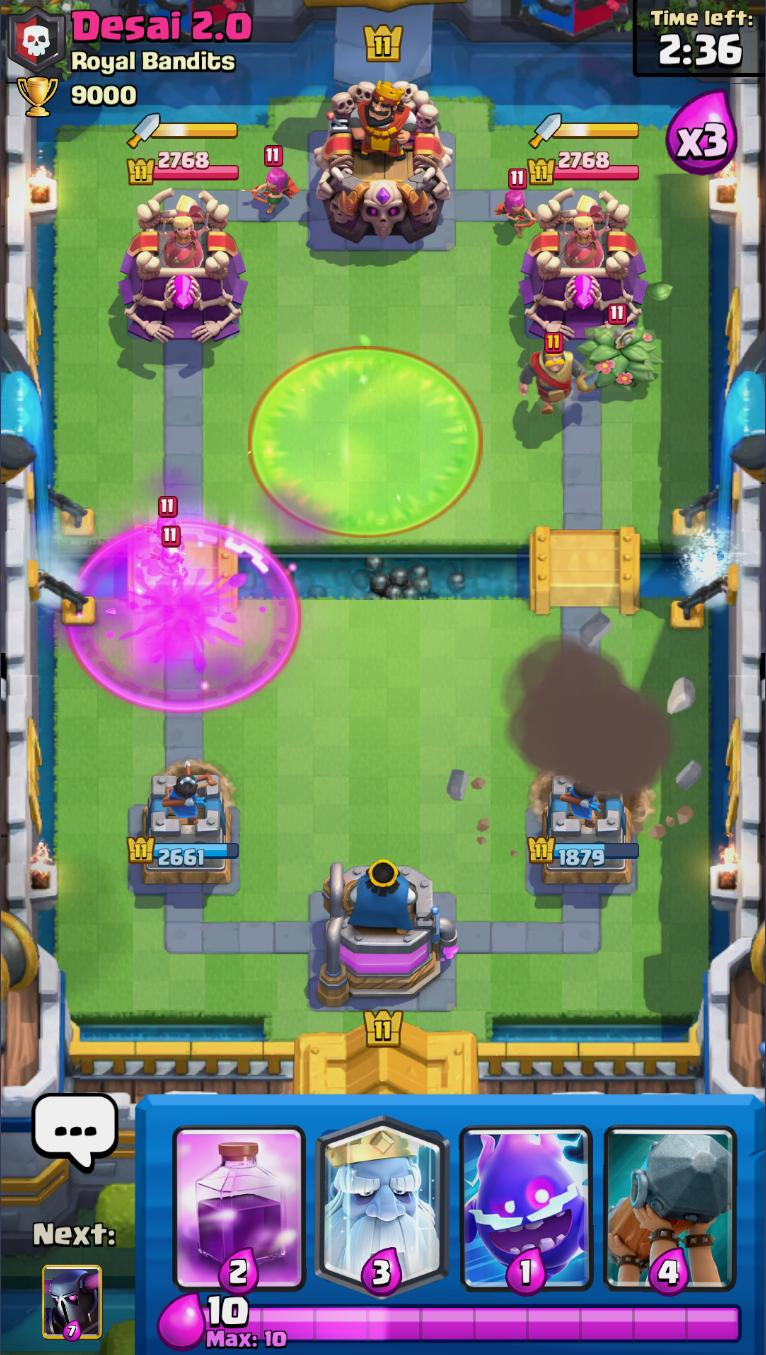Archer: (250, 143, 299, 218), (493, 169, 537, 240), (148, 524, 190, 593), (150, 493, 187, 545)
BattleRamDeck: (599, 1095, 742, 1294)
Bush: (579, 306, 663, 395)
DaggerDuchess: (160, 193, 211, 272), (561, 195, 612, 270)
Daggers: (127, 112, 239, 150), (529, 113, 640, 148)
ElectroSpiritDeck: (453, 1096, 601, 1295)
Elixir: (204, 1294, 745, 1351)
EnemyTower: (116, 186, 250, 345), (518, 186, 650, 344)
GoblinCurse: (250, 345, 480, 538)
KingTower: (312, 79, 457, 245)
Knight: (518, 333, 601, 421)
MyKingTower: (311, 860, 460, 1010)
MyPrincessTower: (524, 770, 643, 896), (125, 771, 243, 894)
MyPrincessTowerHP: (124, 834, 241, 872), (524, 833, 642, 869)
PekkaNext: (41, 1261, 104, 1342)
Rage: (66, 524, 305, 716)
RageDeck: (170, 1096, 310, 1294)
RoyaleGhostDeck: (310, 1096, 454, 1295)
TowerPrincessHP: (527, 149, 642, 187), (126, 149, 240, 187)
